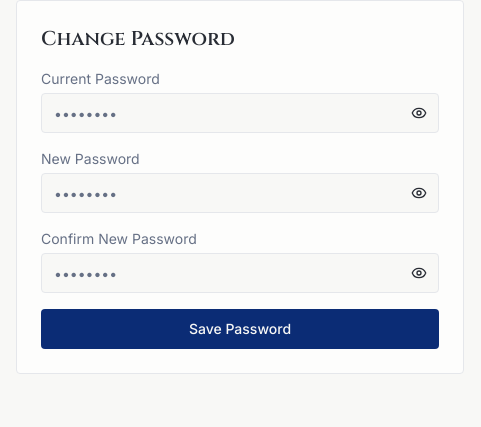
Test: ChangePassword page › submits and shows success
Type "Current1!" into the password field with placeholder "••••••••" at (240, 113), box [41,93,439,133]
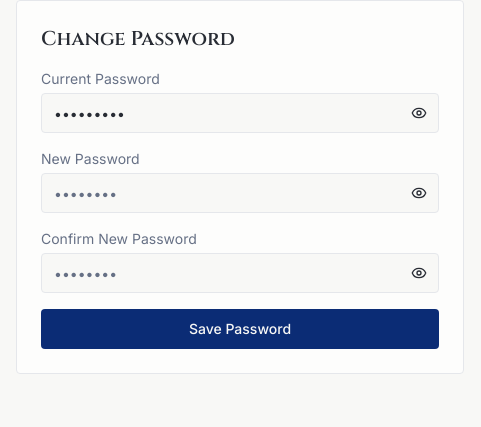
Type "NewPass1!" into the password field with placeholder "••••••••" at (240, 193), box [41,173,439,213]
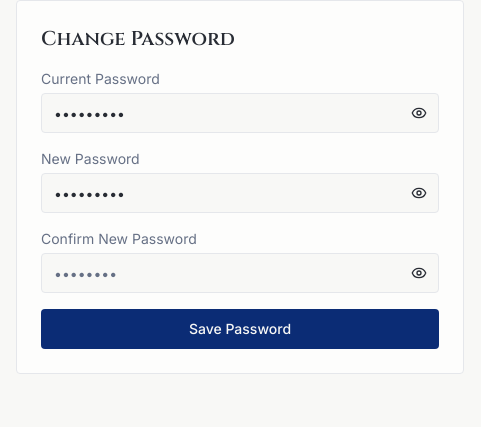
Type "NewPass1!" into the password field with placeholder "••••••••" at (240, 273), box [41,253,439,293]
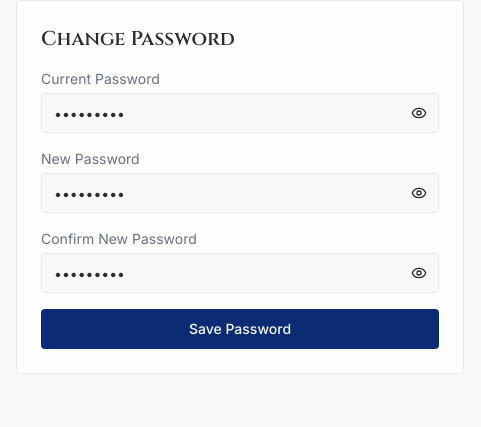
Click the button "Save Password" at (240, 329), box [41,309,439,349]
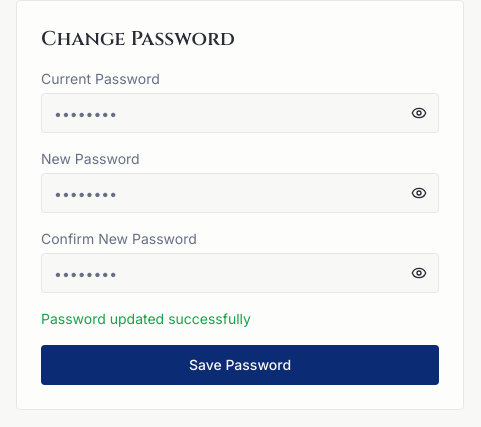
Result: the message shows "success" at [41,310,251,327]
